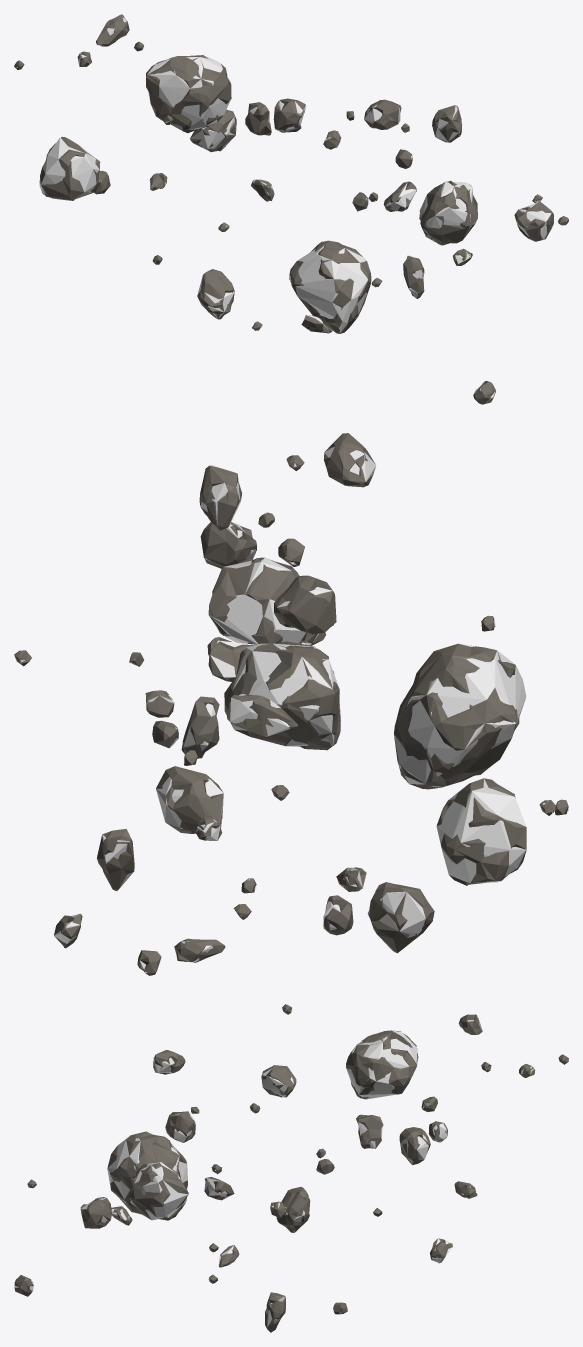
File: SM_Env_Asteroid_Field_LowDetail_02.fbx
3 views of the same model, one above another, from view 1: azimuth 30°, elevation 25°; view 2: azimuth 150°, elevation 25°; view 3: azimuth 270°, elevation 25° (orthographic). The views are drawn at different scales.
Visible parts, largest first — view 1: SM_Env_Asteroid_Field_LowDetail_02_LOD0, SM_Env_Asteroid_Field_LowDetail_02_ConvexHulls; view 2: SM_Env_Asteroid_Field_LowDetail_02_LOD0, SM_Env_Asteroid_Field_LowDetail_02_ConvexHulls; view 3: SM_Env_Asteroid_Field_LowDetail_02_LOD0, SM_Env_Asteroid_Field_LowDetail_02_ConvexHulls.
Boxes of the visible parts, x1,y1,x2,y2 form: SM_Env_Asteroid_Field_LowDetail_02_LOD0: (14,14,568,404); SM_Env_Asteroid_Field_LowDetail_02_ConvexHulls: (16,17,566,403); SM_Env_Asteroid_Field_LowDetail_02_LOD0: (14,433,568,975); SM_Env_Asteroid_Field_LowDetail_02_ConvexHulls: (21,447,568,972); SM_Env_Asteroid_Field_LowDetail_02_LOD0: (14,1004,568,1332); SM_Env_Asteroid_Field_LowDetail_02_ConvexHulls: (14,1017,534,1326).
Bounding box in the file's own units: 16013 × 12679 × 7962.
Materials: 1 (1 with a texture image).
